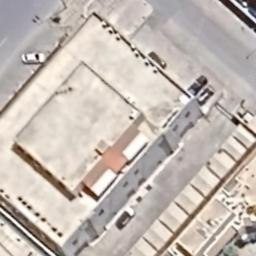sedan: (18, 50, 48, 64)
